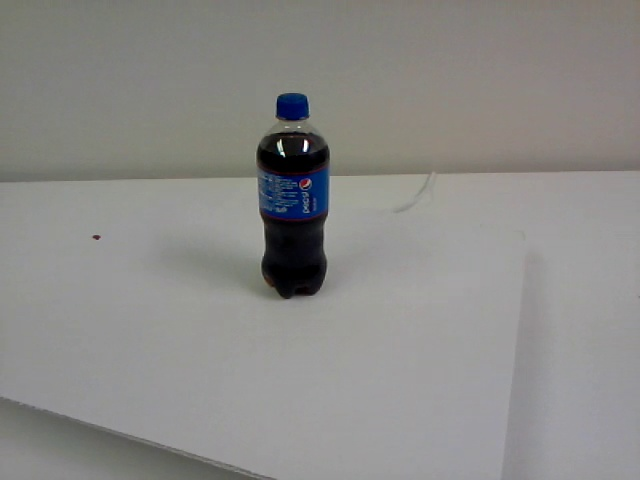botolplastik: (257, 94, 329, 298)
